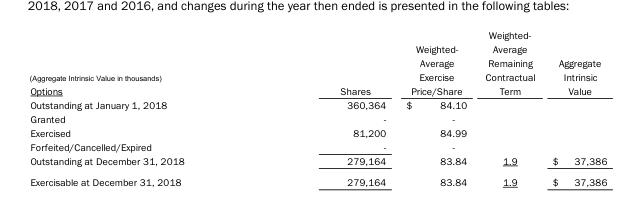table: (28, 28, 606, 187)
table column: (28, 28, 261, 187), (261, 28, 395, 187), (395, 28, 475, 187), (475, 28, 543, 187), (543, 28, 606, 187)
table column header: (28, 28, 606, 97)
table row: (28, 28, 606, 97), (28, 153, 606, 171), (28, 171, 606, 187), (28, 97, 606, 111), (28, 111, 606, 125), (28, 125, 606, 139), (28, 139, 606, 153)
